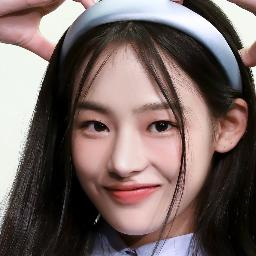face: (75, 54, 209, 232)
